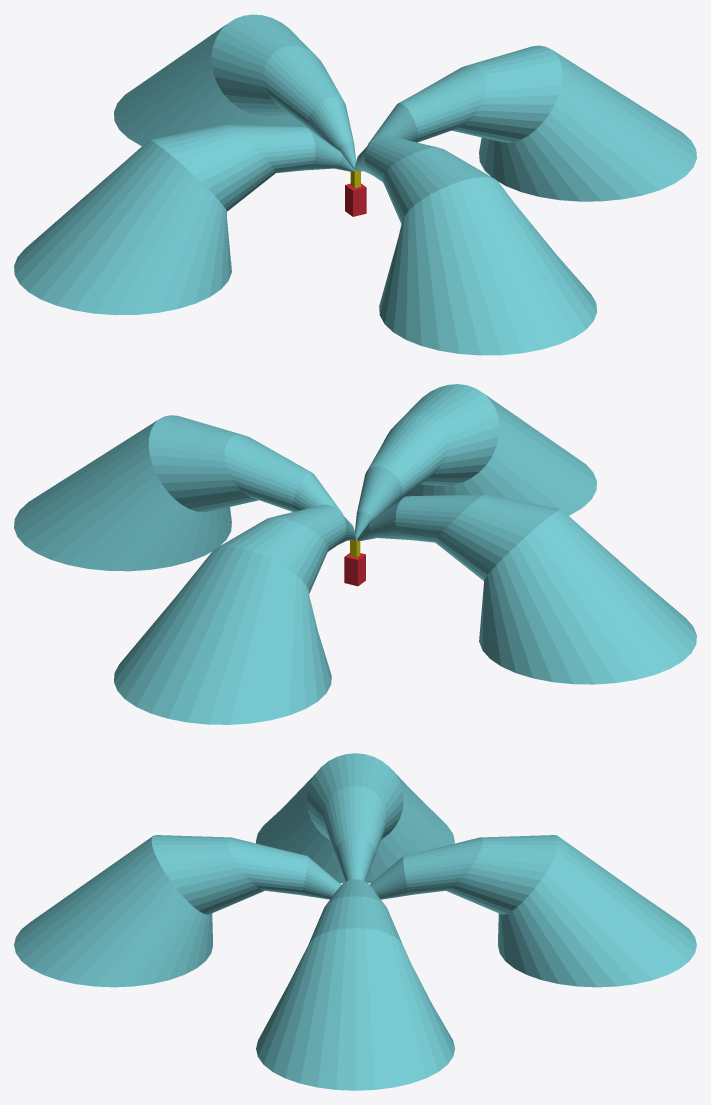
File: sprayer2.fbx
3 views of the same model, one above another, from view 1: azimuth 30°, elevation 25°; view 2: azimuth 150°, elevation 25°; view 3: azimuth 270°, elevation 25° (orthographic). The views are drawn at different scales.
Visible parts, largest first — view 1: Sprayer, Base; view 2: Sprayer, Base; view 3: Sprayer.
Boxes of the visible parts, x1=… form: Sprayer: x1=14, y1=14, x2=696, y2=355; Base: x1=345, y1=183, x2=366, y2=216; Sprayer: x1=14, y1=384, x2=696, y2=724; Base: x1=344, y1=553, x2=365, y2=586; Sprayer: x1=14, y1=753, x2=696, y2=1090.
Size of the model in its own units: 1604 by 269 by 1591.
